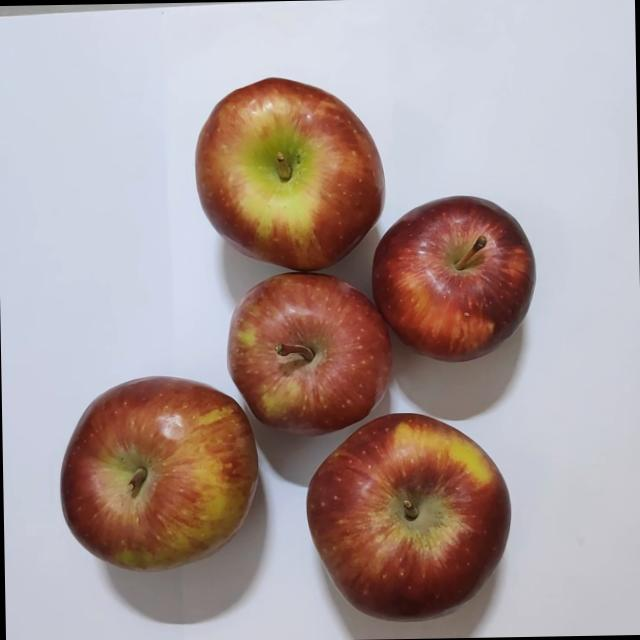apple: (298, 404, 520, 628), (56, 361, 266, 585), (184, 82, 390, 284), (221, 270, 394, 438), (369, 197, 533, 367)
